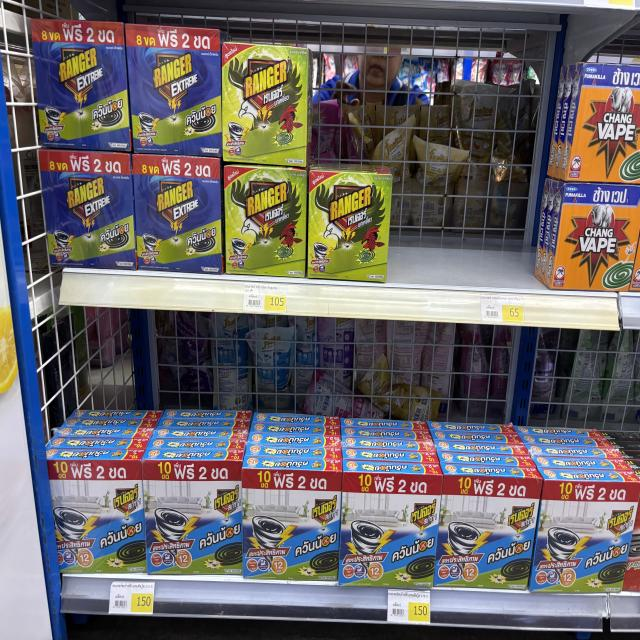empty_shelf: (394, 38, 538, 293)
